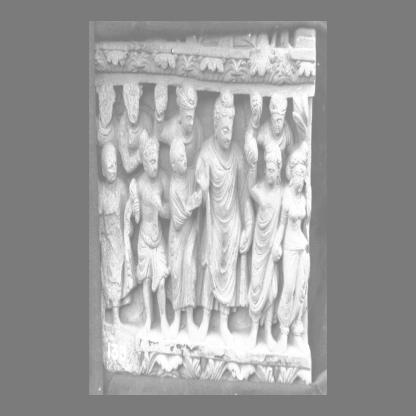buddha-standing: (195, 89, 254, 340)
